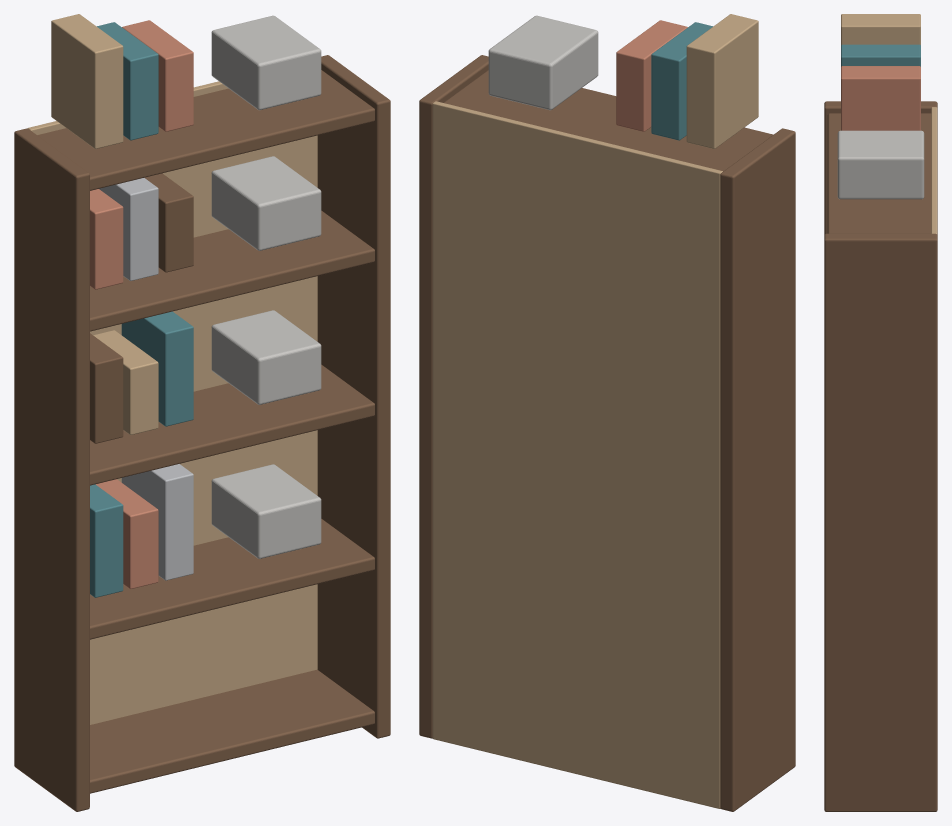
Rendered from modern_bookshelf.glb.
3 views of the same model, side by side, from view 1: azimuth 30°, elevation 25°; view 2: azimuth 150°, elevation 25°; view 3: azimuth 270°, elevation 25° (orthographic). The views are drawn at different scales.
Visible parts, largest first — view 1: side, side.001, back, shelf_0, shelf_4, shelf_1, shelf_2, shelf_3, book_9, box_2, box_2.001, box_2.003 (+12 smaller); view 2: back, side, side.001, shelf_4, book_9, box_2.003, book_11, book_10; view 3: side.001, box_2.003, shelf_4, book_11, book_9, book_10, side, back.
Part boxes in pixels (x1=…): side: x1=14, y1=128, x2=89, y2=811; side.001: x1=317, y1=55, x2=390, y2=738; back: x1=28, y1=81, x2=317, y2=724; shelf_0: x1=90, y1=669, x2=374, y2=793; shelf_4: x1=37, y1=70, x2=374, y2=190; shelf_1: x1=90, y1=519, x2=374, y2=639; shelf_2: x1=90, y1=364, x2=374, y2=485; shelf_3: x1=90, y1=210, x2=374, y2=331; book_9: x1=51, y1=14, x2=123, y2=148; box_2: x1=211, y1=464, x2=321, y2=558; box_2.001: x1=211, y1=310, x2=321, y2=404; box_2.003: x1=211, y1=15, x2=321, y2=110; back: x1=432, y1=101, x2=722, y2=808; side: x1=720, y1=128, x2=795, y2=811; side.001: x1=419, y1=55, x2=488, y2=738; shelf_4: x1=443, y1=70, x2=773, y2=171; book_9: x1=686, y1=14, x2=758, y2=148; box_2.003: x1=488, y1=15, x2=598, y2=110; book_11: x1=616, y1=20, x2=687, y2=131; book_10: x1=651, y1=22, x2=712, y2=140; side.001: x1=824, y1=233, x2=937, y2=811; box_2.003: x1=837, y1=130, x2=924, y2=199; shelf_4: x1=827, y1=113, x2=931, y2=233; book_11: x1=841, y1=66, x2=920, y2=130; book_9: x1=841, y1=14, x2=920, y2=44; book_10: x1=841, y1=44, x2=920, y2=66; side: x1=824, y1=101, x2=937, y2=234; back: x1=931, y1=107, x2=937, y2=234.
Bounding box in the file's own units: 0.985 × 2.23 × 0.34.
